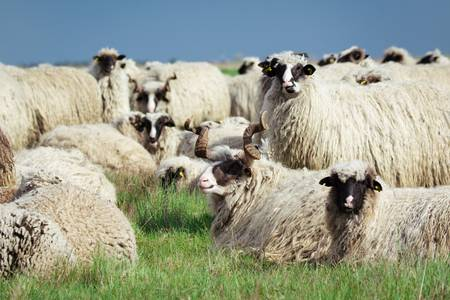sheep: (189, 128, 330, 267), (261, 54, 433, 165), (319, 155, 450, 279), (1, 177, 142, 281), (1, 55, 101, 130), (128, 74, 230, 116), (131, 104, 194, 157), (87, 41, 133, 112), (156, 155, 204, 198)
